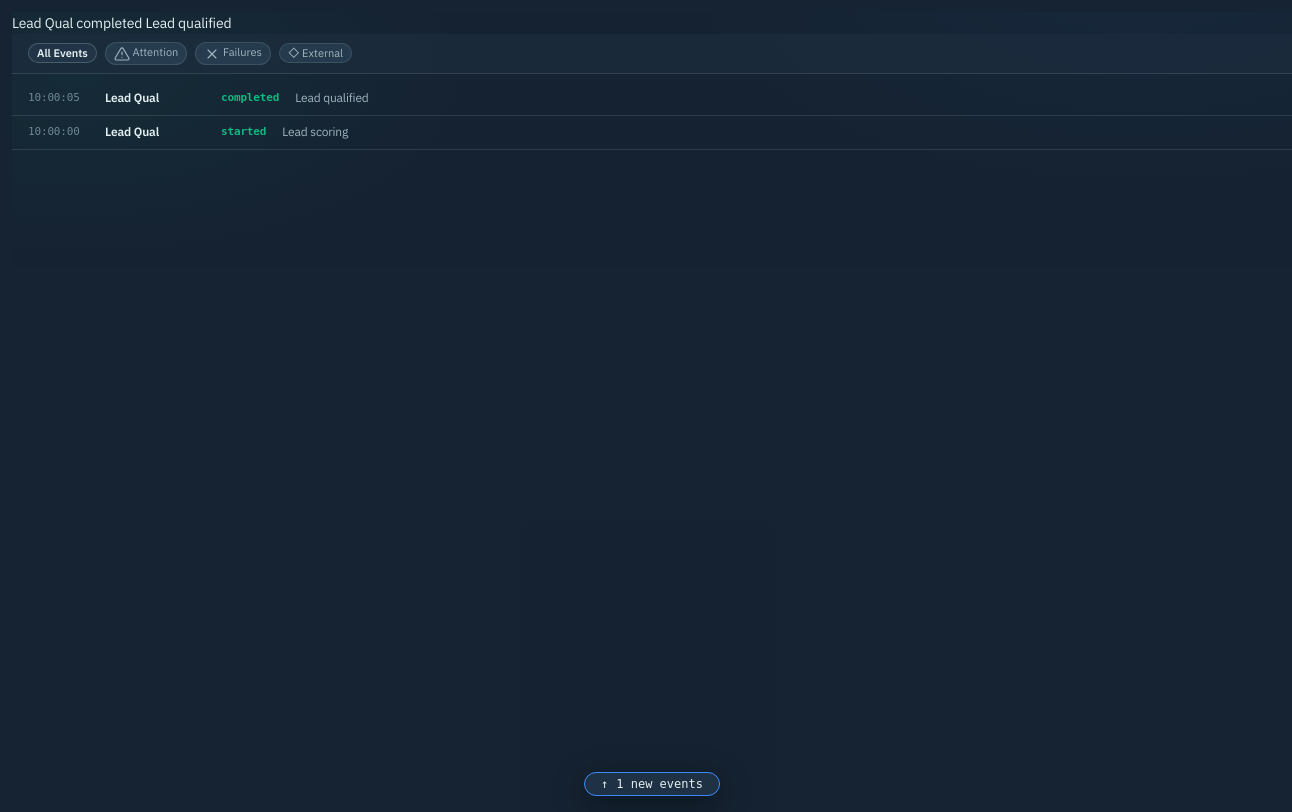
Test: Live Agent Activity Theatre Unit Tests (§15, Milestone M10) › 4. Auto-scroll pauses on scroll-up with a resume pill (§15.3, Criterion 4)
(page scrolled)
Expected: the text "1 new events" is shown, x1=616 y1=777 x2=703 y2=791
Click the button with test id "resume-scroll-pill" at (652, 784), box x1=584 y1=772 x2=720 y2=796
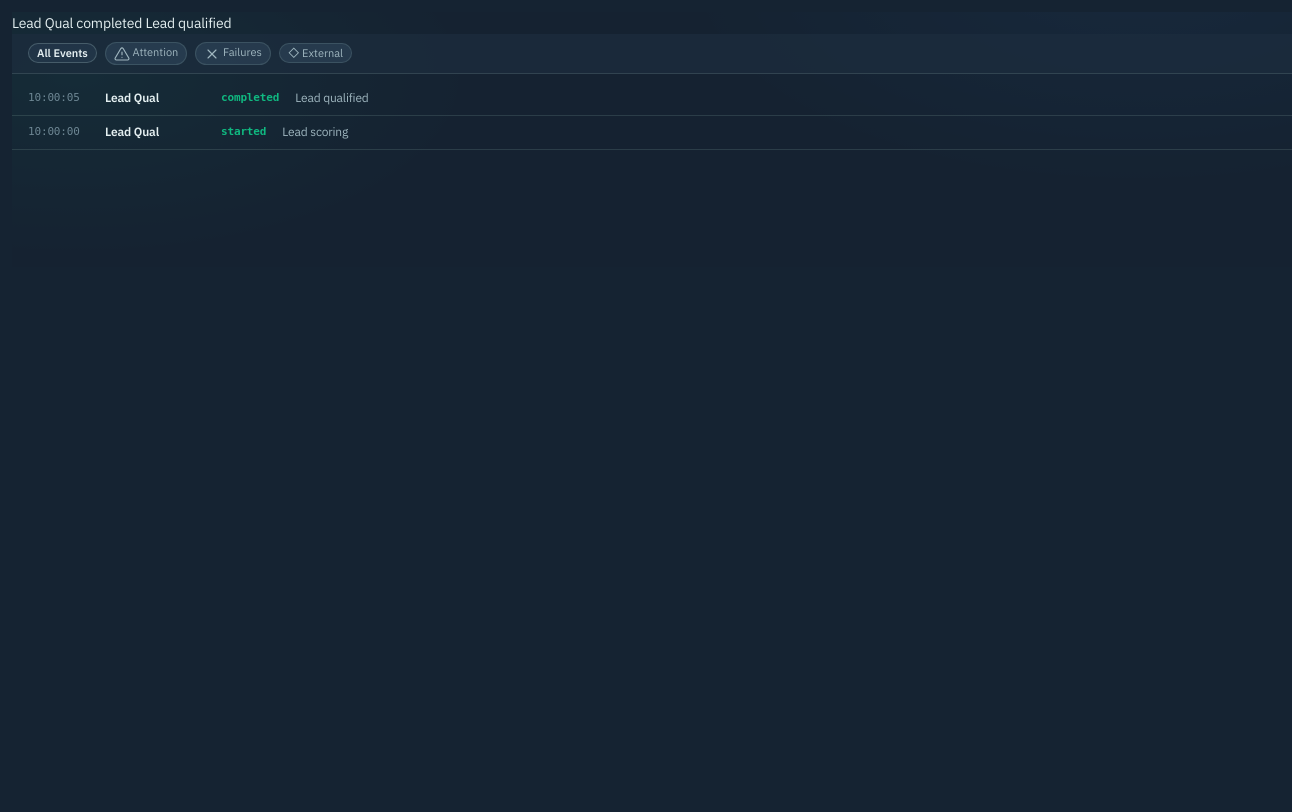
Now the button with test id "resume-scroll-pill" is gone
